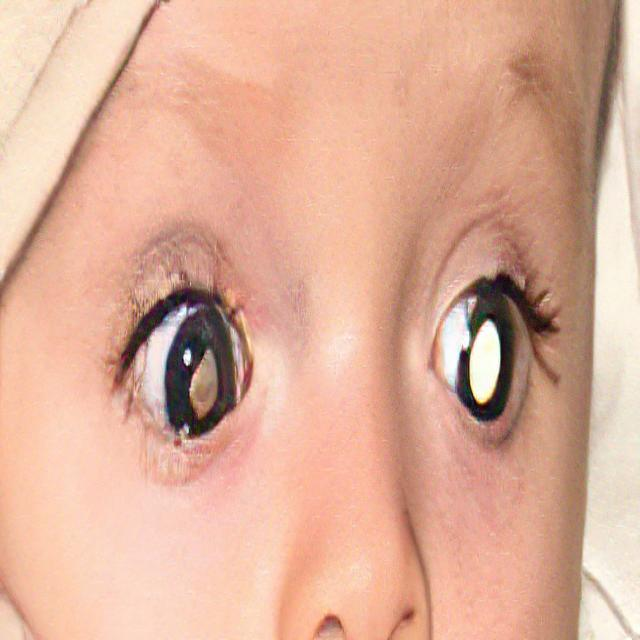reflexo-alterado: (121, 252, 265, 501), (411, 247, 545, 503)
